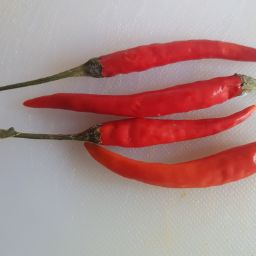Cayenne pepper: (1, 69, 256, 189), (2, 43, 256, 133)
